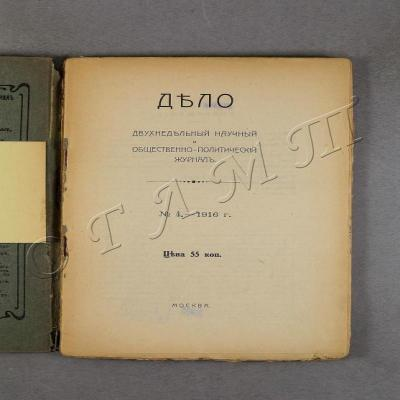rare_books: (0, 54, 350, 359)
